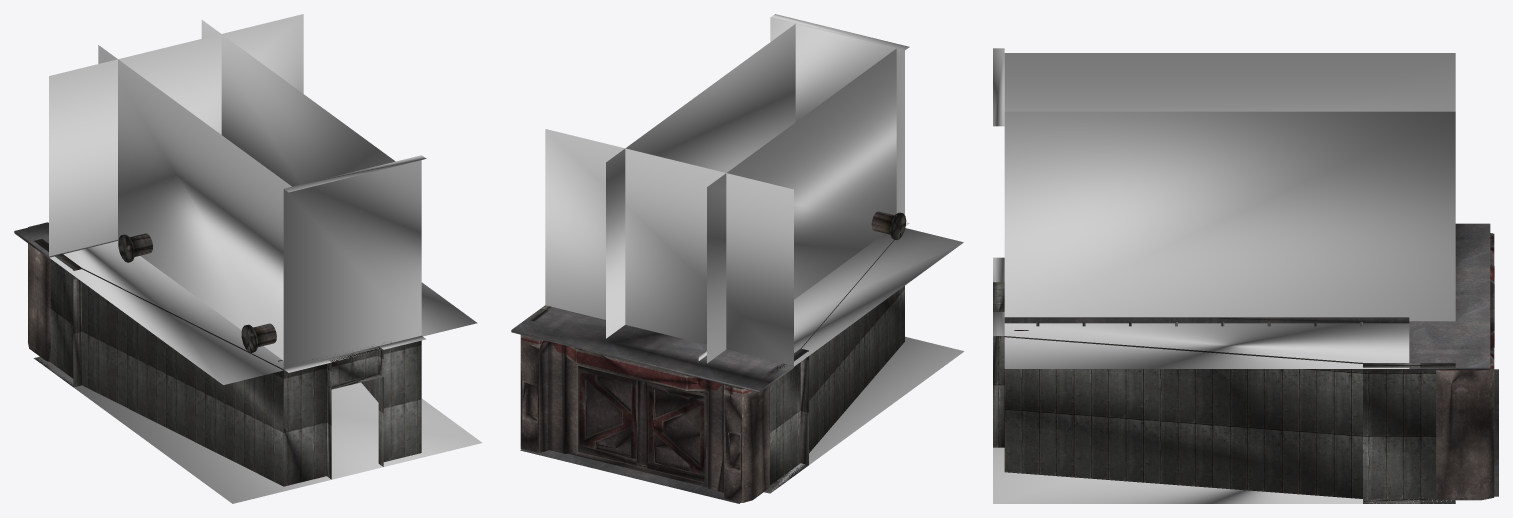
The model's file is endroom2_opt.obj.
3 renders of one model, left to right at view 1: azimuth 30°, elevation 25°; view 2: azimuth 150°, elevation 25°; view 3: azimuth 270°, elevation 25°, orthographic. The views are drawn at different scales.
Size of the model in its own units: 47.2 by 52.83 by 70.
